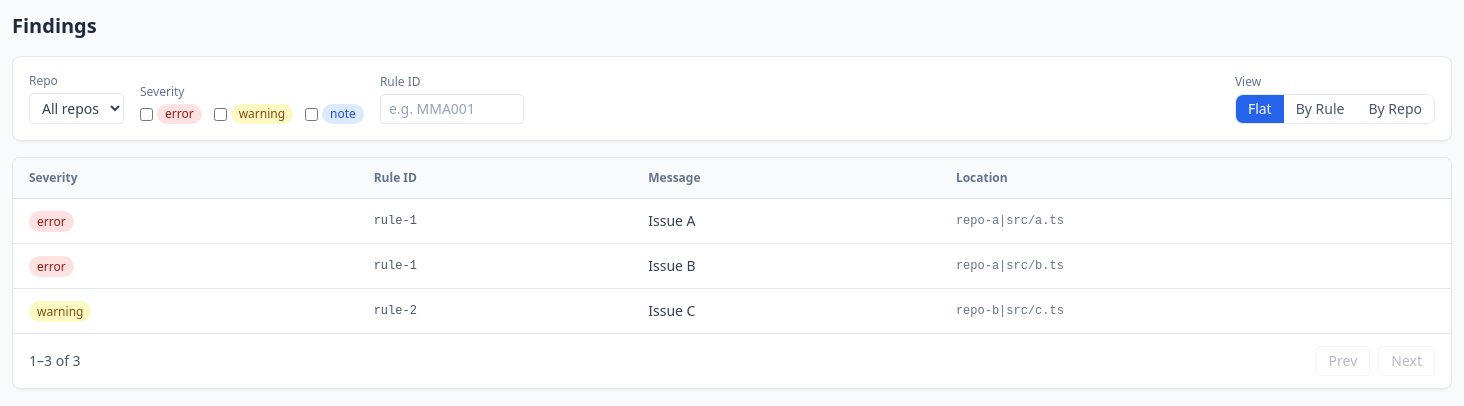
Test: FindingsTable › in group-by-rule mode, shows rule sections with count badges
Check: the text "Issue A" is shown, box x1=632 y1=198 x2=940 y2=244
Click the button "By Rule": click(1320, 109) x1=1284 y1=95 x2=1356 y2=123
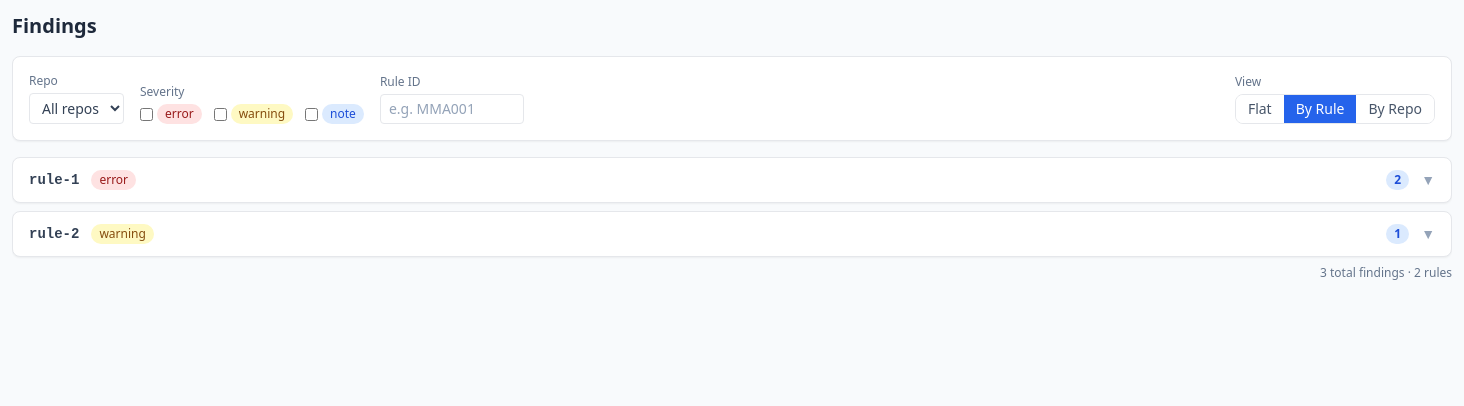
Check: the text "1" is shown, box x1=1386 y1=224 x2=1409 y2=244
Check: the text "2" is shown, box x1=1386 y1=170 x2=1409 y2=190
